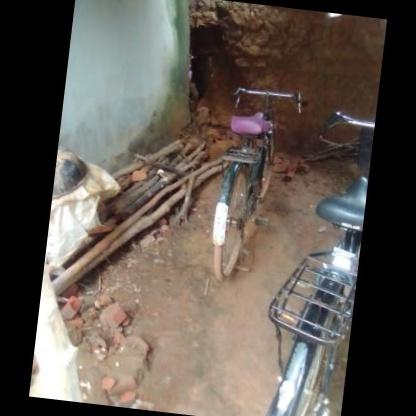Bicycle: (250, 100, 362, 416), (192, 75, 305, 289)
